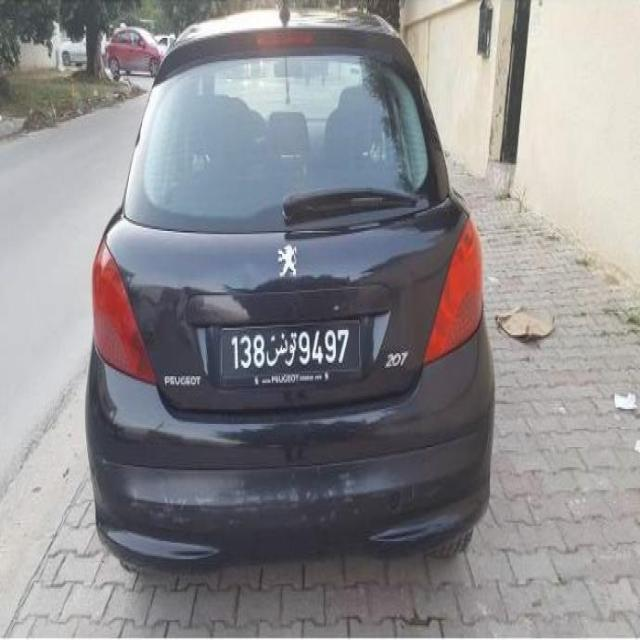LP: (219, 314, 361, 371)
